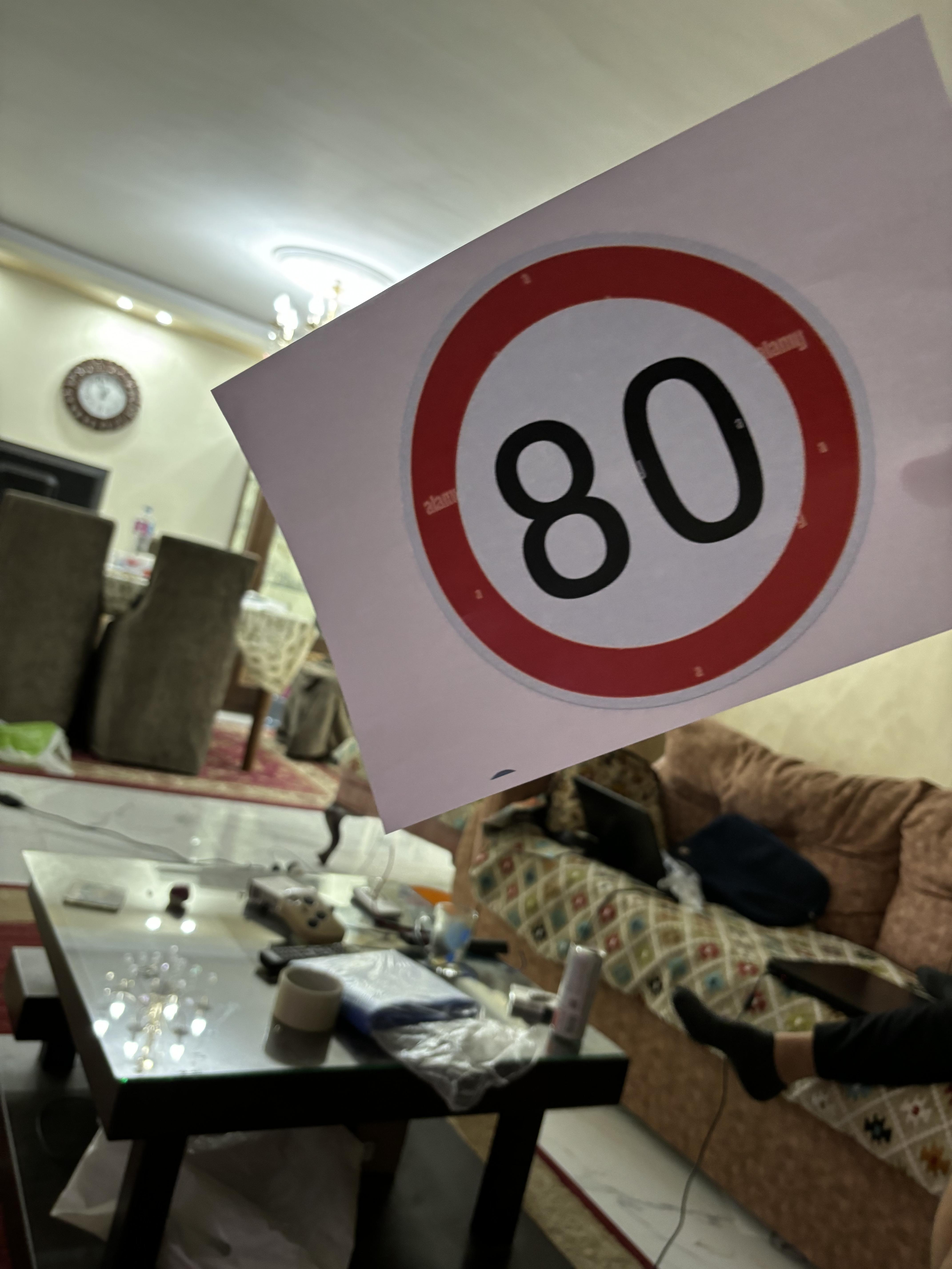80-Speed: (394, 220, 882, 723)
